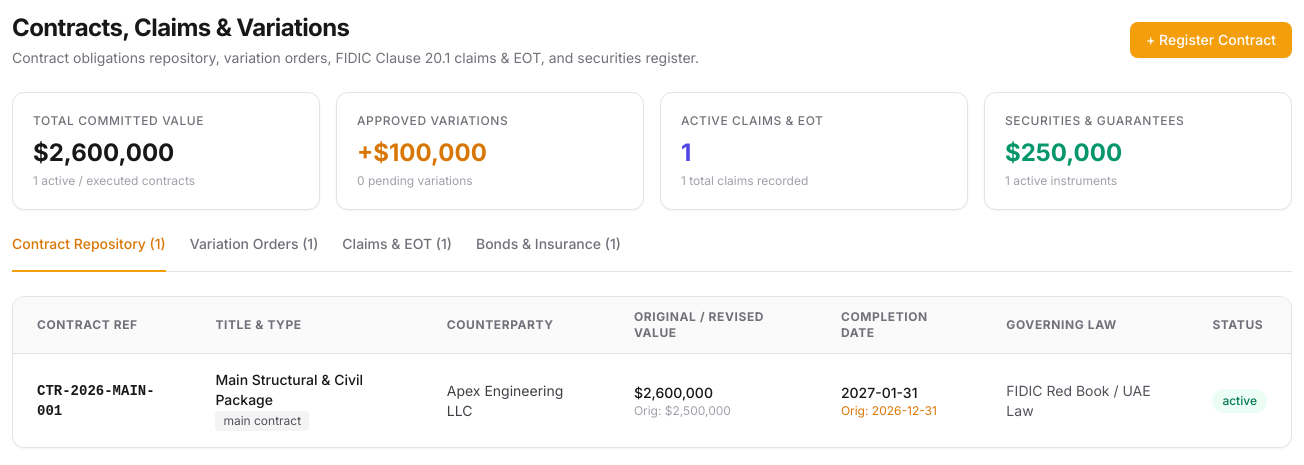
Test case: M23: Contracts, Claims & Variations Page › switches to Securities tab and displays active guarantees
The image size is (1304, 465).
Click the button "Bonds & Insurance (1)": (548, 253) [476,234,621,272]
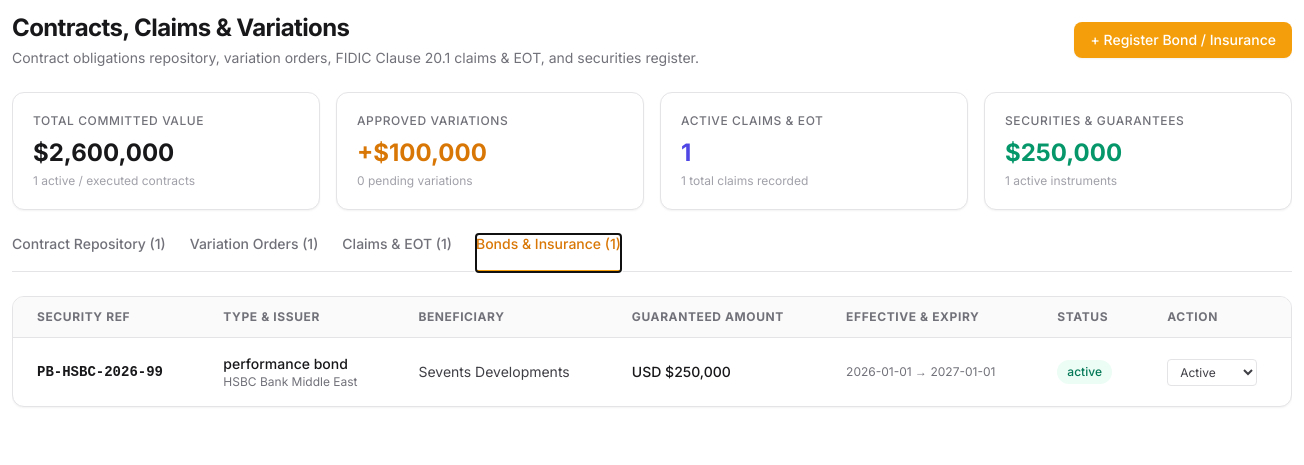
Expected: the text "PB-HSBC-2026-99" is shown, [13,338,199,406]
Expected: the text "performance bond" is shown, [223,355,348,372]
Expected: the text "HSBC Bank Middle East" is shown, [223,374,370,390]
